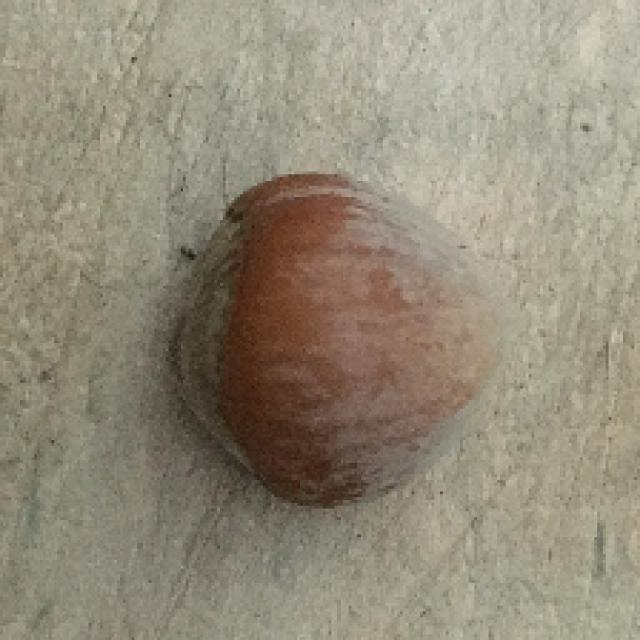qualityHazelnut: (174, 170, 512, 515)
